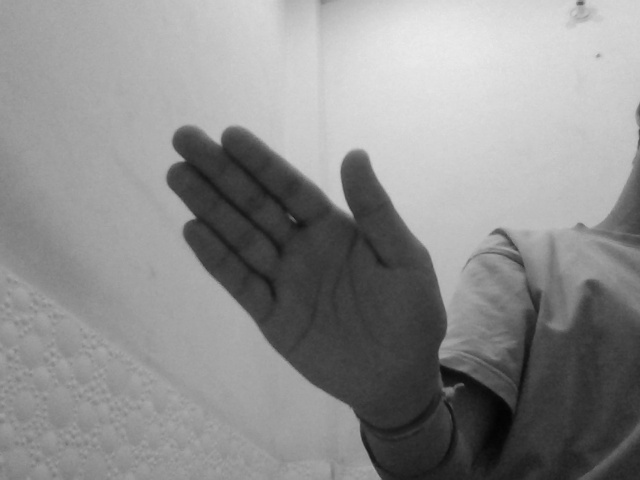Hello: (155, 118, 449, 410)
